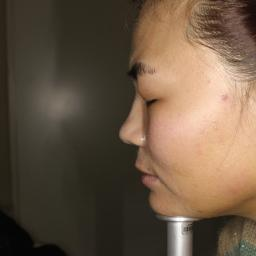ance: (213, 88, 231, 106), (195, 122, 209, 140), (210, 114, 222, 134), (202, 76, 218, 88), (190, 206, 206, 218)
